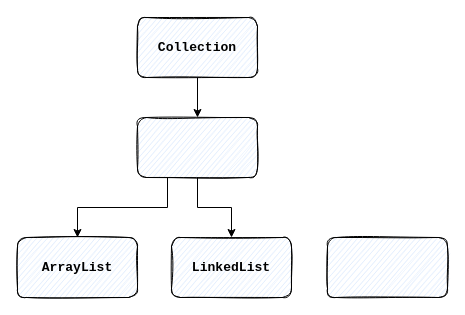
This 465x315 diagram has some shape labels left out. The shapes that lost their labels are listed below. From the top down, each one's box as (x1, y1, x2, y2) in pixels, then its label:
(136, 116, 258, 178): List
(326, 236, 448, 298): Vector
